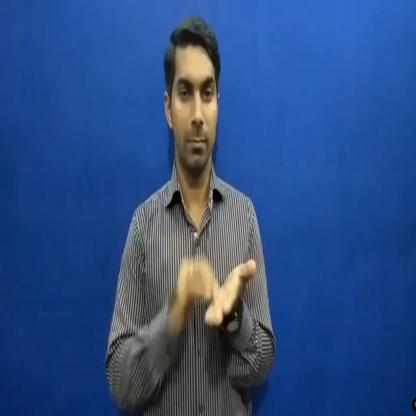ExcuseMe: (171, 227, 264, 333)
